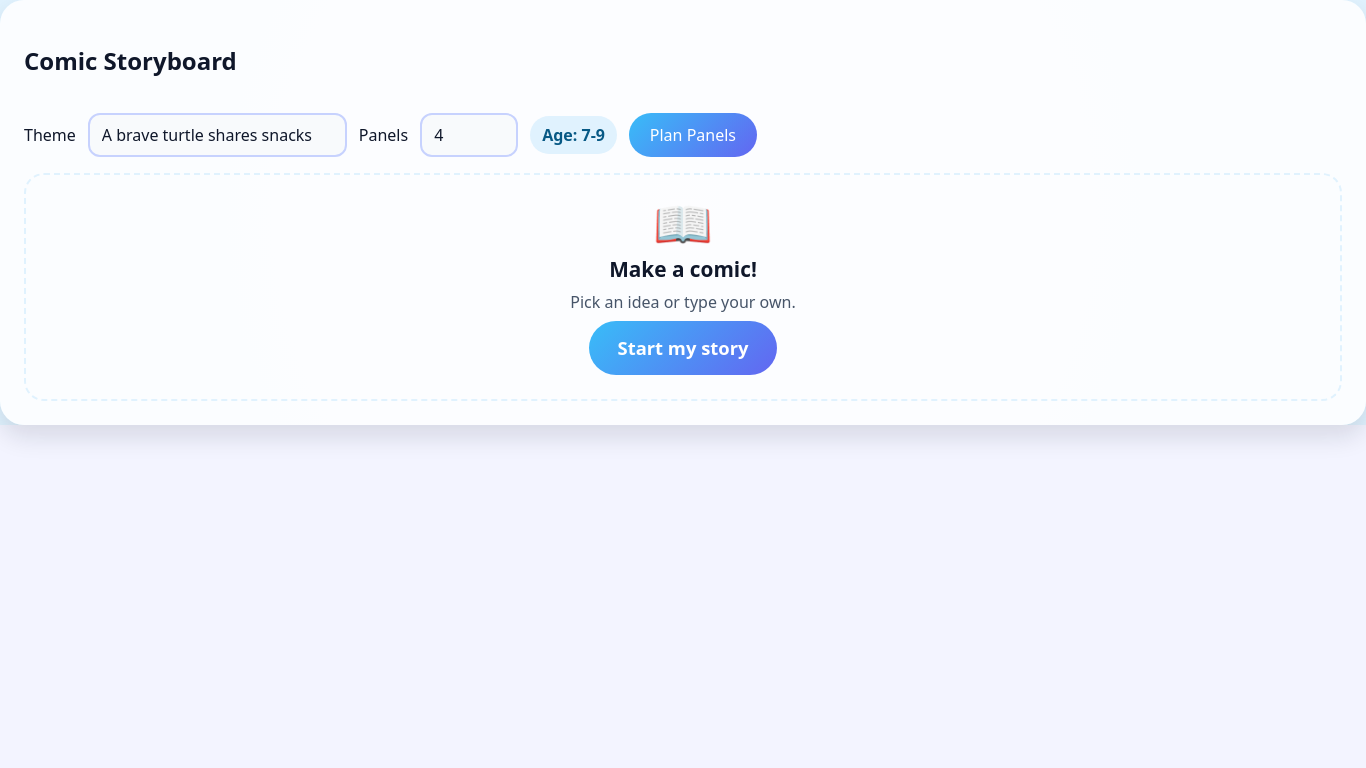
Test case: ChatGPT tool-result envelopes › ComicBoard renders successful structured content
Step 1. Click the button "Plan Panels" → {"x": 693, "y": 135}, box [629,113,757,157]
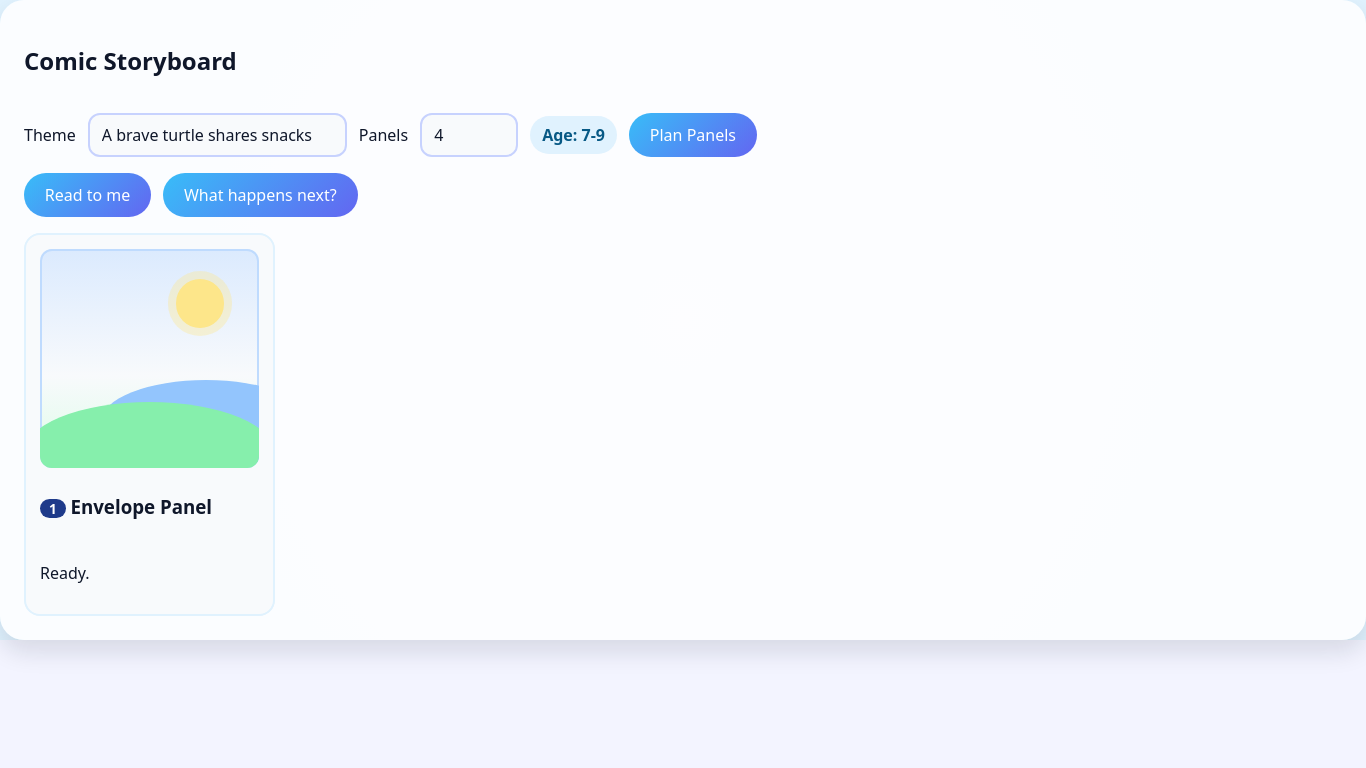
Result: the heading "1 Envelope Panel" is shown at [40,494,212,519]
